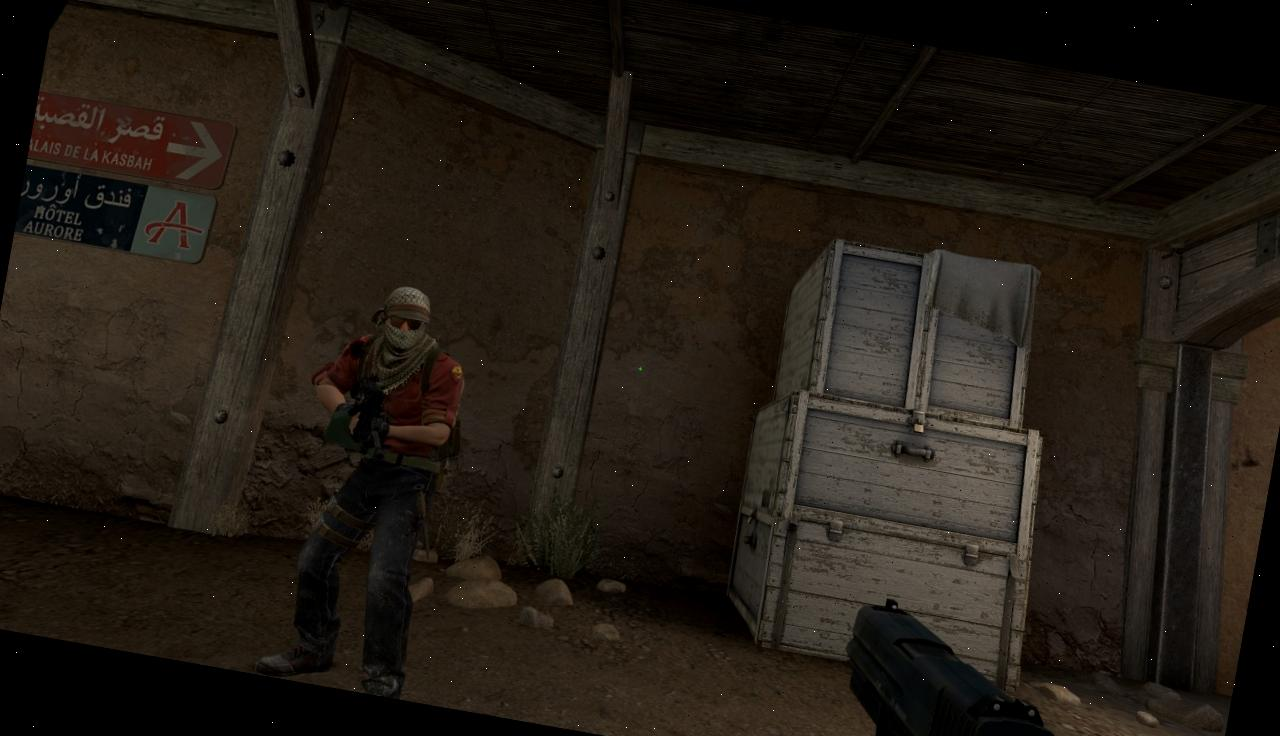pistol: (825, 593, 1152, 736)
tt: (260, 273, 480, 701)
tthead: (378, 284, 435, 354)
